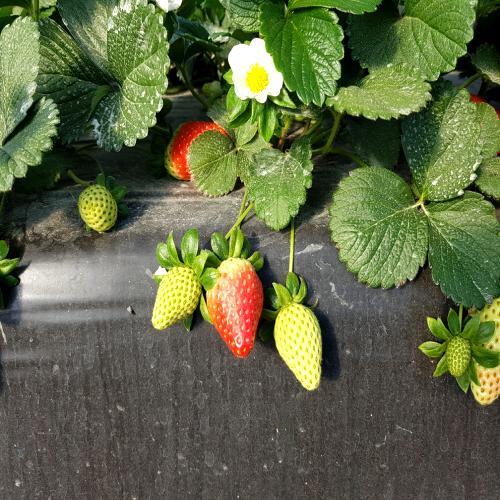ripe: (203, 247, 266, 359)
